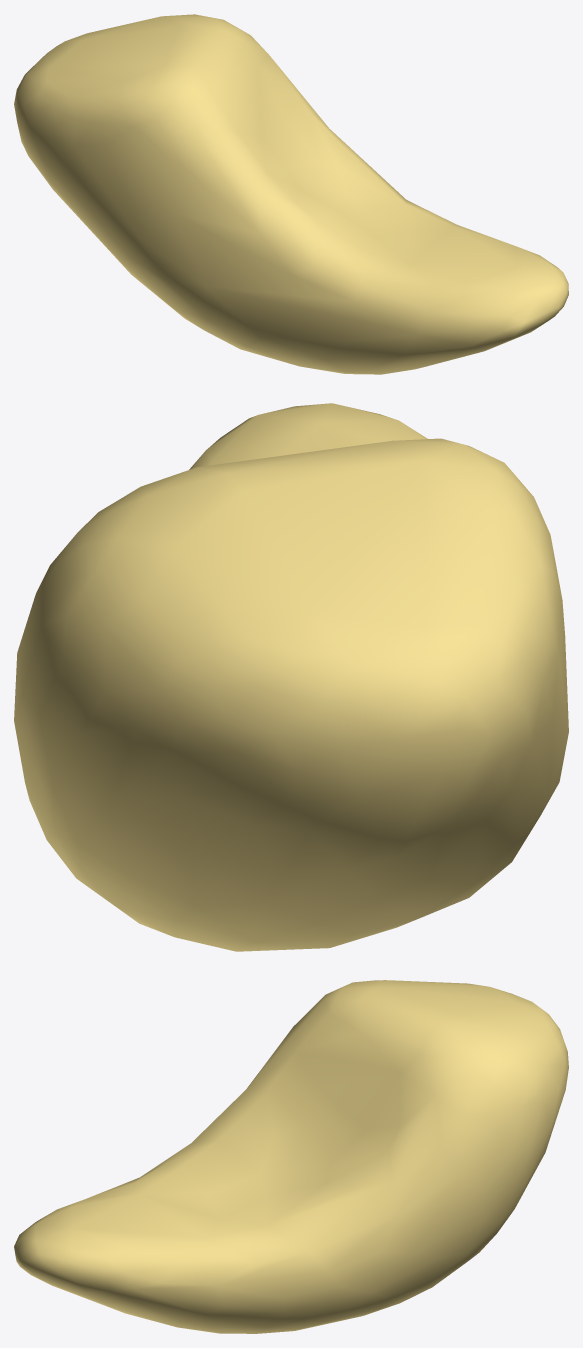
The picture shows the model from 3 angles, top to bottom: view 1: azimuth 30°, elevation 25°; view 2: azimuth 150°, elevation 25°; view 3: azimuth 270°, elevation 25°; orthographic projection. The views are drawn at different scales.
Parts seen in each view (by area): view 1: ZA_f7ef3d00ca68291f; view 2: ZA_f7ef3d00ca68291f; view 3: ZA_f7ef3d00ca68291f.
Part boxes in pixels (x1,y1,x2,y2): ZA_f7ef3d00ca68291f: (14, 14, 568, 374); ZA_f7ef3d00ca68291f: (14, 403, 568, 951); ZA_f7ef3d00ca68291f: (14, 980, 568, 1333).
Size of the model in its own units: 0.00822 by 0.00623 by 0.0114.
